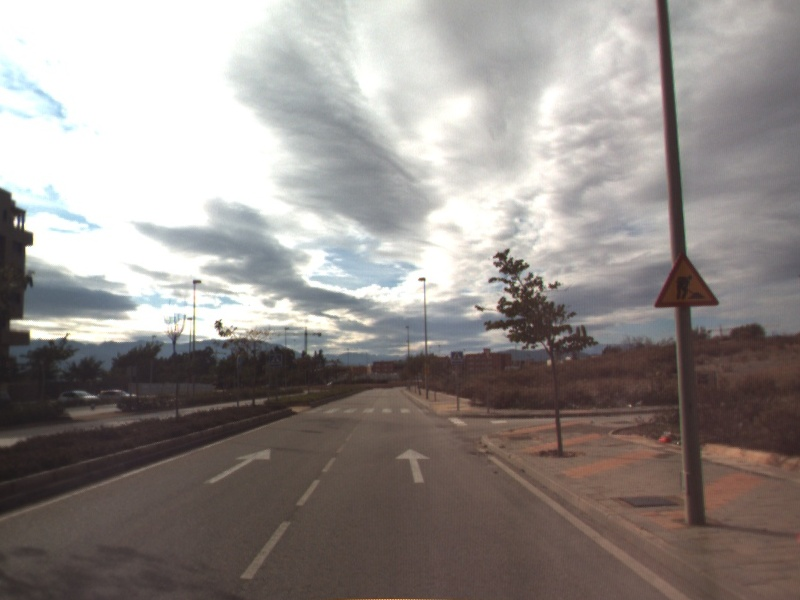STRAIGHT: (201, 446, 273, 486), (393, 446, 433, 485)
